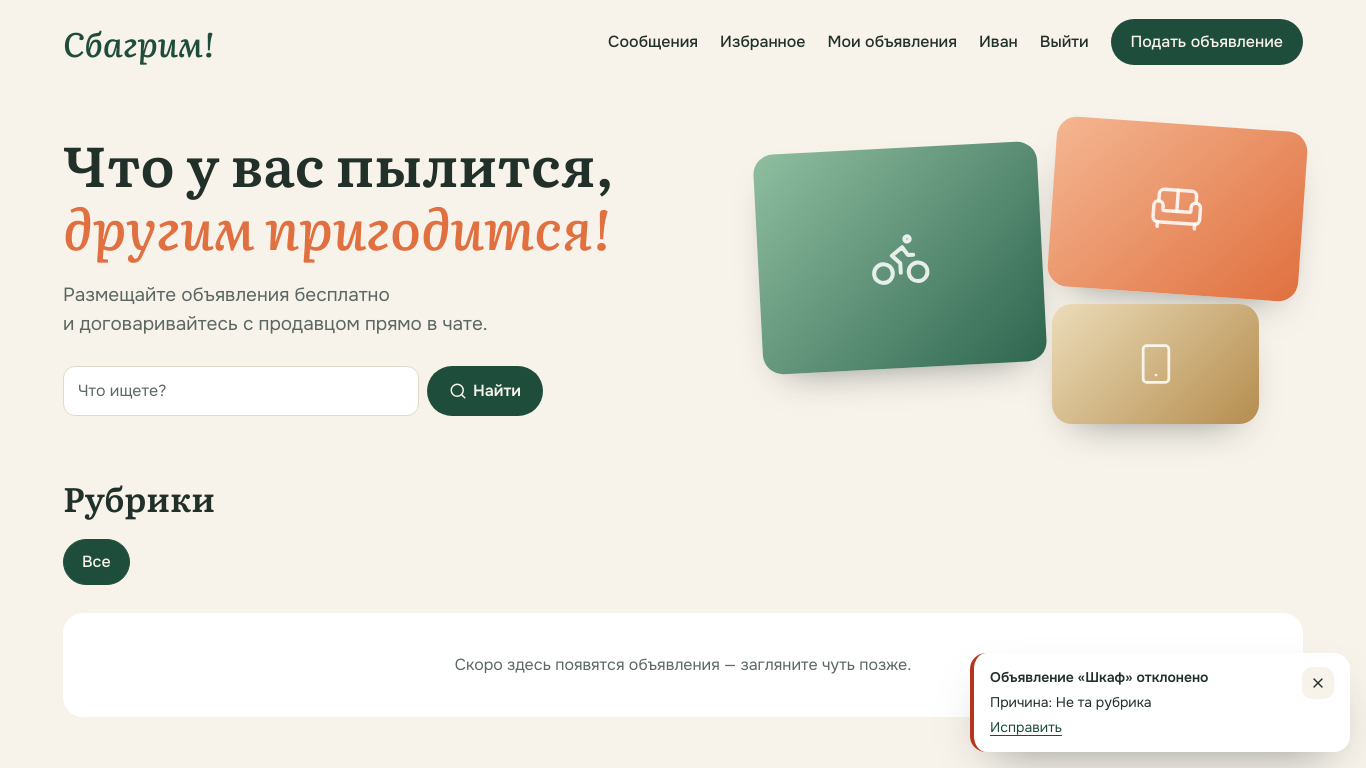
Test: уведомление о решении модератора › новое решение по тому же объявлению заменяет прежнее, крестик закрывает
Expected: the button "Выйти" is shown, [1040,30,1088,54]
Expected: the message shows "Причина: Не та рубрика", [970,653,1350,752]
Click the button named "Закрыть уведомление" at (1318, 683), box [1302,667,1334,699]
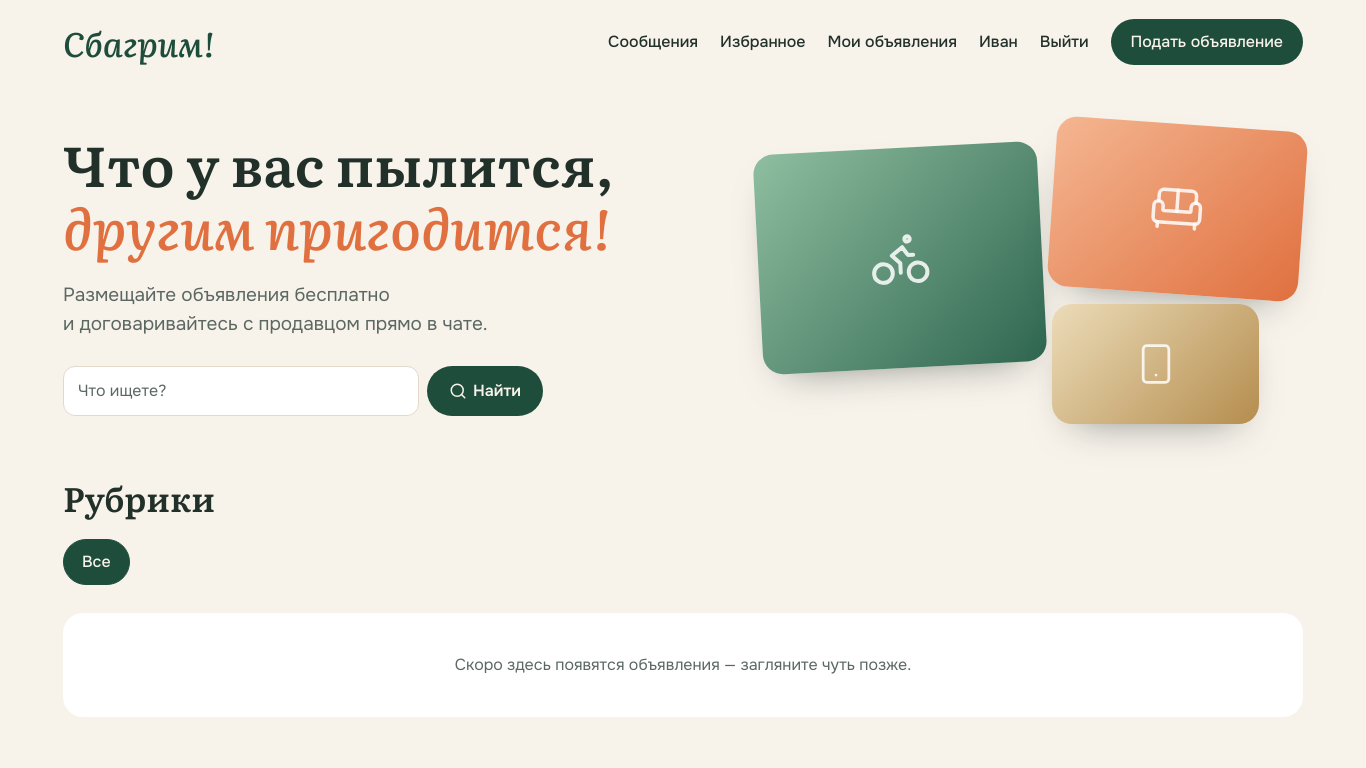
Now the message "Объявление «Шкаф» отклонено Причина: Не та рубрика Исправить" is gone
